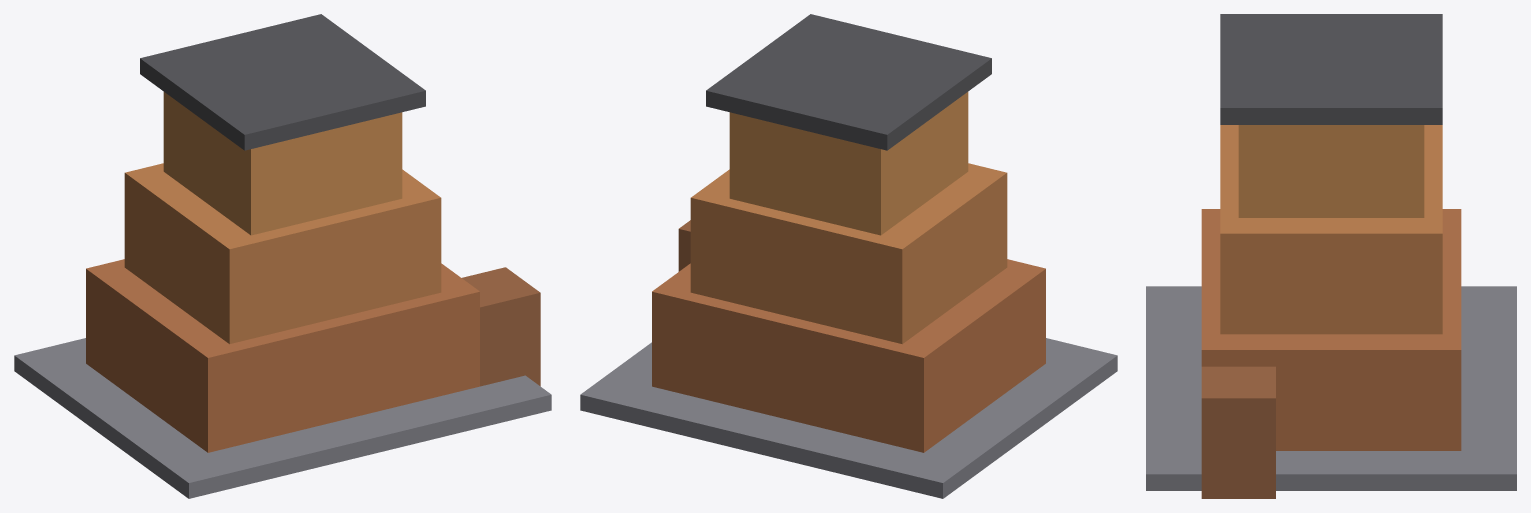
3 views of the same model, side by side, from view 1: azimuth 30°, elevation 25°; view 2: azimuth 150°, elevation 25°; view 3: azimuth 270°, elevation 25° (orthographic). The views are drawn at different scales.
Visible parts, largest first — view 1: HongyadongPlaceholder; view 2: HongyadongPlaceholder; view 3: HongyadongPlaceholder.
Boxes of the visible parts, left/top/right/bottom form: HongyadongPlaceholder: left=14, top=14, right=551, bottom=498; HongyadongPlaceholder: left=580, top=14, right=1117, bottom=498; HongyadongPlaceholder: left=1146, top=14, right=1516, bottom=498.
Bounding box in the file's own units: 25 × 20 × 20.
